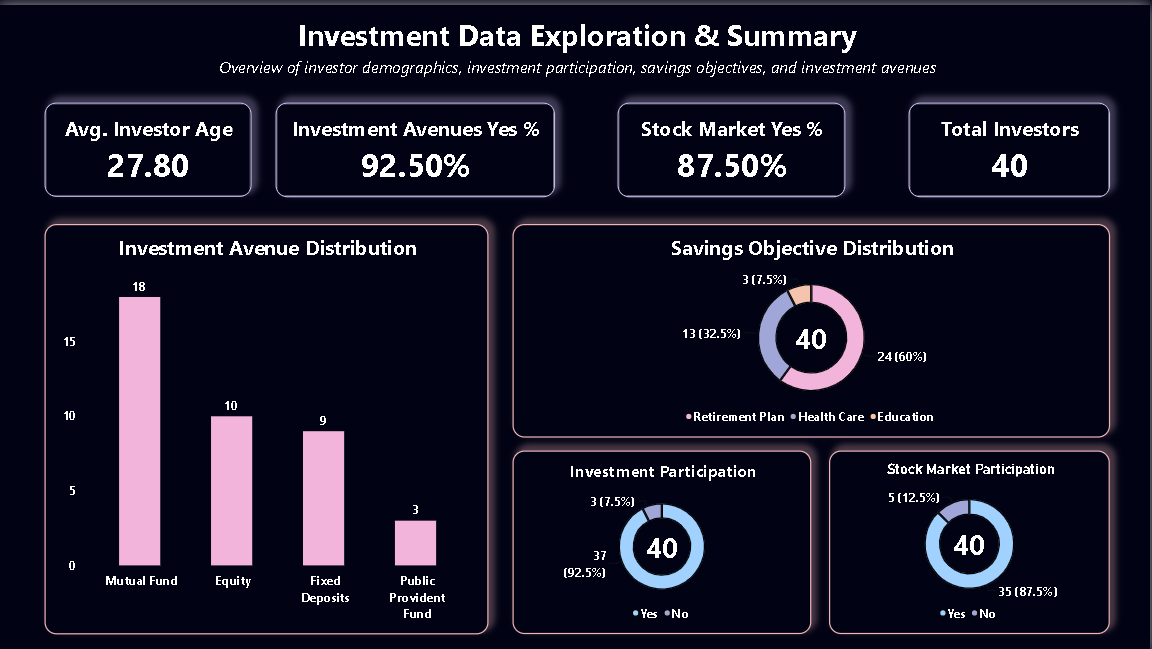

The dashboard page shown, as its layout file describes it:
{"tool":"powerbi","page":{"name":"Task-1.Data Exploration and Summary","canvas":[1920,1080],"ordinal":0},"visuals":[{"type":"cardVisual","fields":{"Data":["All_Measures.Average Age"]},"box":[77.5,162.5,345,157.5],"z":0},{"type":"cardVisual","fields":{"Data":["All_Measures.Total Respondents"]},"box":[1518,162,336,158],"z":1000},{"type":"cardVisual","fields":{"Data":["All_Measures.Stock Market Yes %"]},"box":[1033.3,162,380,158],"z":2000},{"type":"cardVisual","fields":{"Data":["All_Measures.Investment Avenues Yes %"]},"box":[462.7,162,466,158],"z":3000},{"type":"textbox","box":[78,18,1776,66],"z":4000},{"type":"clusteredColumnChart","title":"Investment Avenue Distribution","fields":{"Category":["Investments.Avenue"],"Y":["CountNonNull(Investments.Avenue)"]},"box":[78,364,740,684],"z":5000},{"type":"donutChart","title":"Savings Objective Distribution","fields":{"Category":["Investments.What are your savings objectives?"],"Y":["CountNonNull(Investments.What are your savings objectives?)"]},"box":[858,364,996,356],"z":6000},{"type":"donutChart","title":"Investment Participation","fields":{"Category":["Investments.Investment_Avenues"],"Y":["All_Measures.Investment Participation Count"]},"box":[858,742,498,306],"z":7000},{"type":"donutChart","title":"Stock Market Participation","fields":{"Category":["Investments.Stock_Marktet"],"Y":["CountNonNull(Investments.Stock_Marktet)"]},"box":[1386,742,468,306],"z":8000},{"type":"textbox","box":[78,84,1776,41.3],"z":9000}]}

Visuals, with their boxes in screenshot pixels (x1, y1, x2, y2), scaled from the page's 1920x1080 canvas onto the 1152x649 screenshot:
cardVisual - All_Measures.Average Age: bbox=(46, 98, 254, 192)
cardVisual - All_Measures.Total Respondents: bbox=(911, 97, 1112, 192)
cardVisual - All_Measures.Stock Market Yes %: bbox=(620, 97, 848, 192)
cardVisual - All_Measures.Investment Avenues Yes %: bbox=(278, 97, 557, 192)
textbox: bbox=(47, 11, 1112, 50)
"Investment Avenue Distribution" clusteredColumnChart: bbox=(47, 219, 491, 630)
"Savings Objective Distribution" donutChart: bbox=(515, 219, 1112, 433)
"Investment Participation" donutChart: bbox=(515, 446, 814, 630)
"Stock Market Participation" donutChart: bbox=(832, 446, 1112, 630)
textbox: bbox=(47, 50, 1112, 75)
